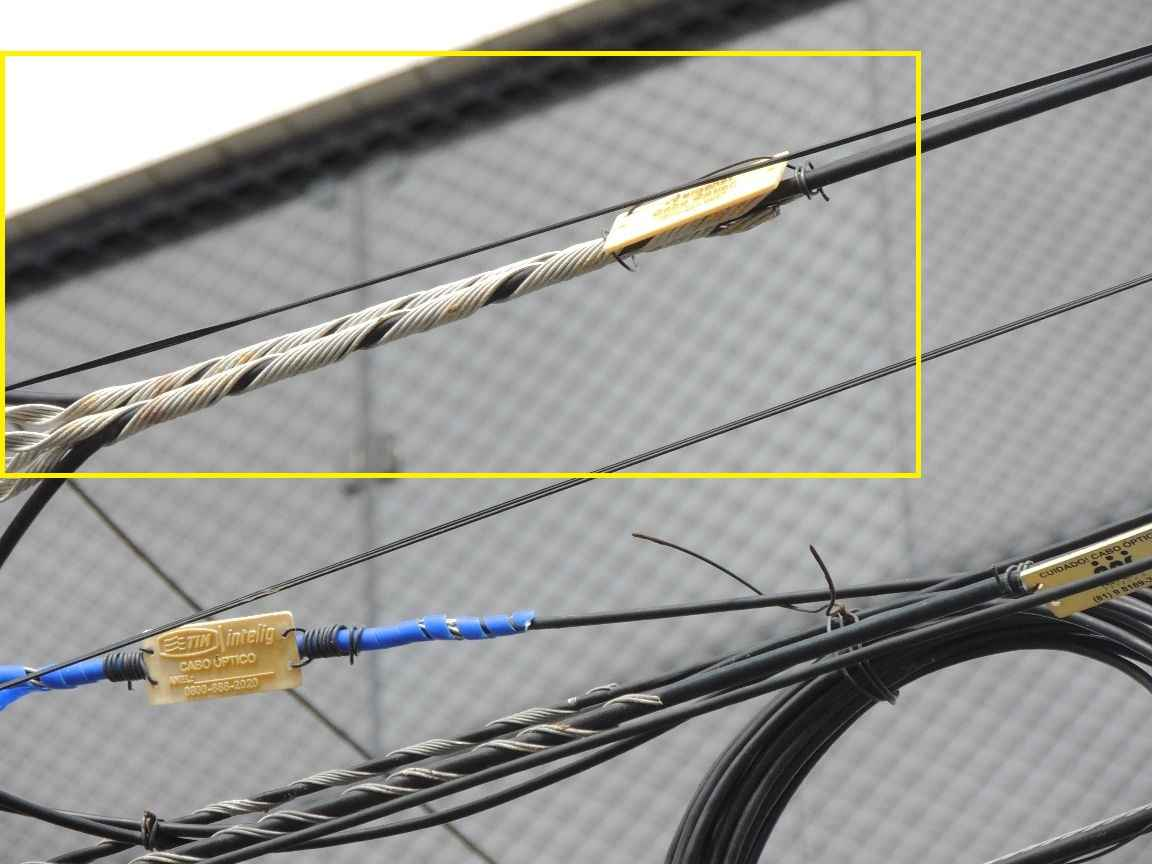fibra_optica: (599, 149, 807, 285), (1014, 489, 1152, 648), (143, 609, 308, 709)
